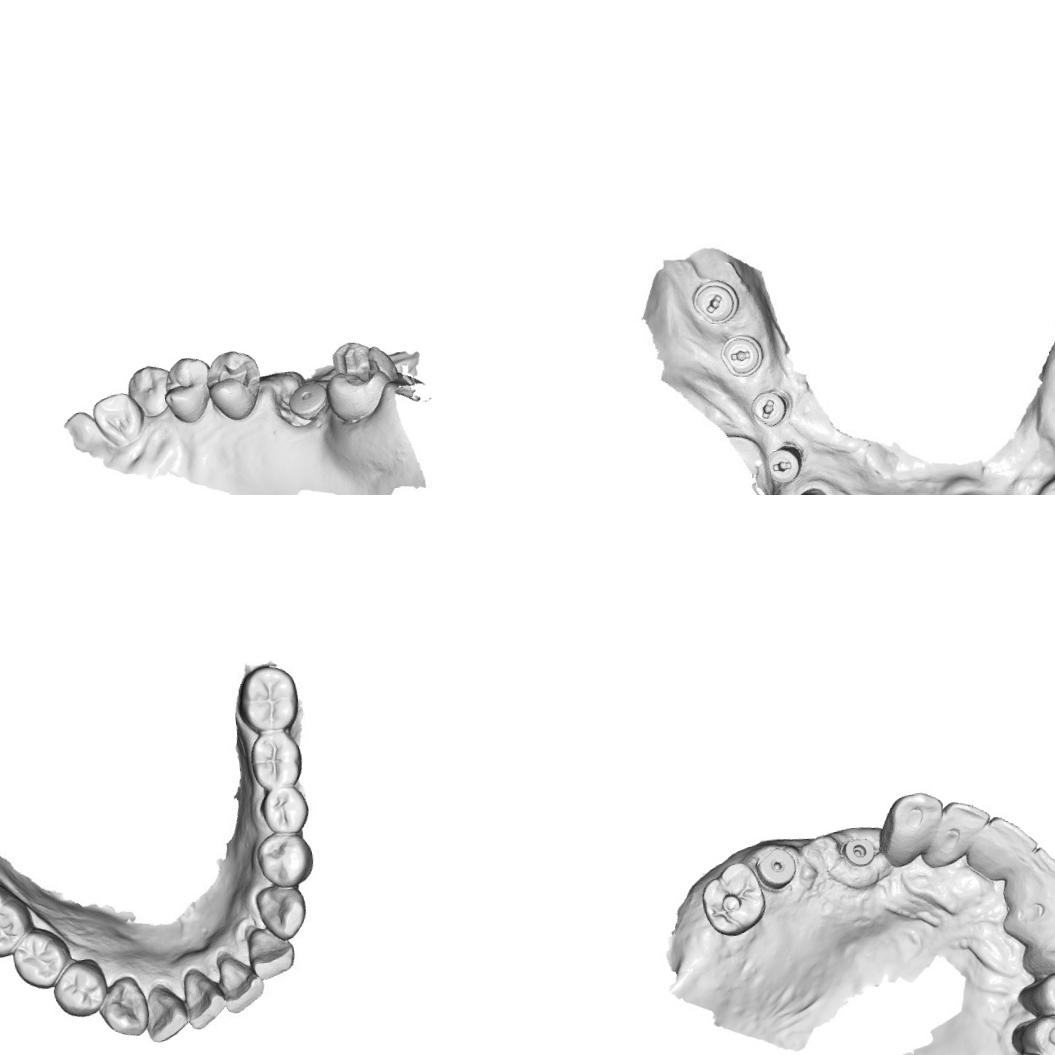canine: (872, 788, 947, 870), (96, 972, 152, 1042), (253, 883, 309, 942), (124, 362, 175, 422), (1018, 928, 1055, 983)
implant: (284, 377, 332, 423), (753, 845, 799, 892), (841, 834, 879, 871)
implant_minus: (680, 268, 744, 334), (718, 325, 775, 386), (746, 379, 802, 438), (759, 436, 814, 490)
incisor: (976, 810, 1042, 868), (89, 389, 147, 449), (934, 795, 994, 850), (218, 953, 267, 1016), (142, 982, 188, 1047), (180, 968, 225, 1032), (248, 926, 298, 981), (1016, 843, 1055, 898), (1025, 887, 1055, 948)
molar: (322, 337, 397, 424), (696, 858, 770, 940), (246, 728, 305, 793), (242, 668, 294, 732), (0, 875, 32, 962)
premolar: (202, 346, 266, 426), (8, 925, 73, 993), (159, 353, 216, 426), (48, 955, 110, 1021), (256, 831, 314, 890), (258, 785, 310, 837), (1018, 1008, 1055, 1055), (1027, 965, 1055, 1026)
